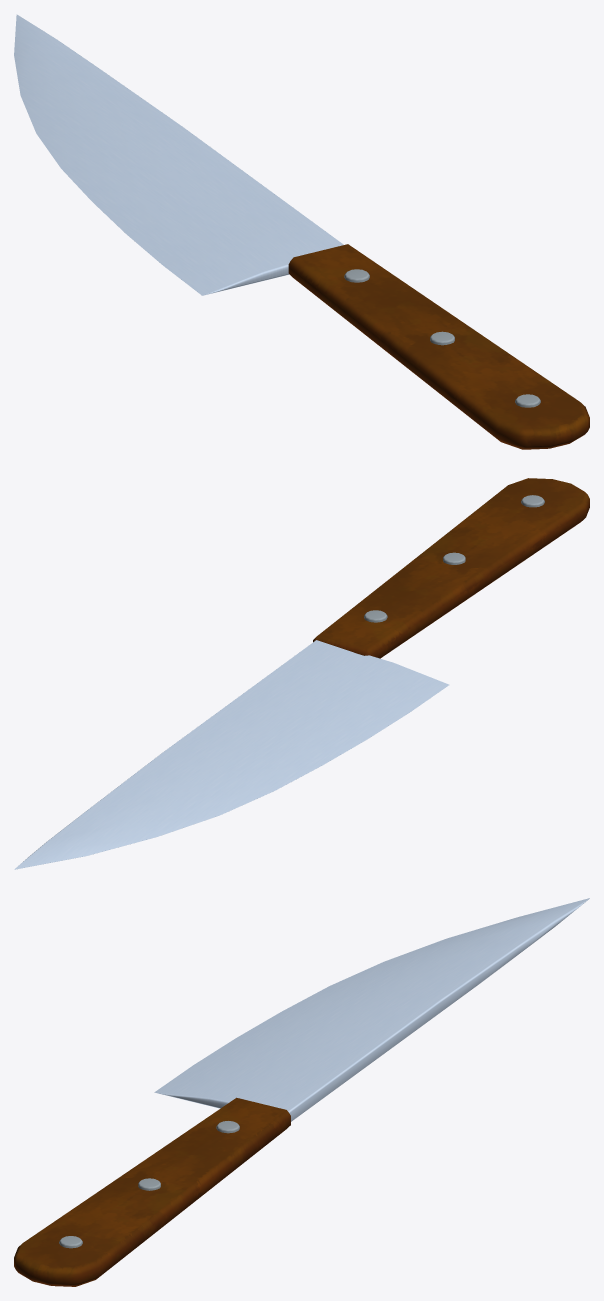
File: Knife.fbx
The picture shows the model from 3 angles, top to bottom: view 1: azimuth 30°, elevation 25°; view 2: azimuth 150°, elevation 25°; view 3: azimuth 330°, elevation 25°; orthographic projection. The views are drawn at different scales.
Visible parts, largest first — view 1: Plane.002; view 2: Plane.002; view 3: Plane.002.
Boxes of the visible parts, box(x1,y1,x2,y2) form: Plane.002: box(14, 14, 589, 449); Plane.002: box(14, 478, 589, 869); Plane.002: box(14, 898, 589, 1286).
Size of the model in its own units: 8.84 by 1.47 by 54.07.
